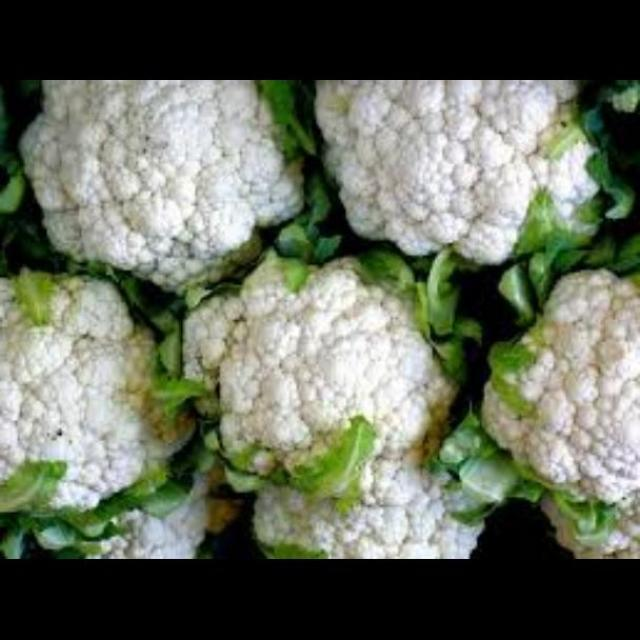cayliflower: (155, 248, 477, 480), (12, 82, 296, 304), (304, 82, 612, 284), (1, 262, 199, 518), (473, 269, 640, 561), (233, 436, 489, 560), (49, 482, 227, 560)
